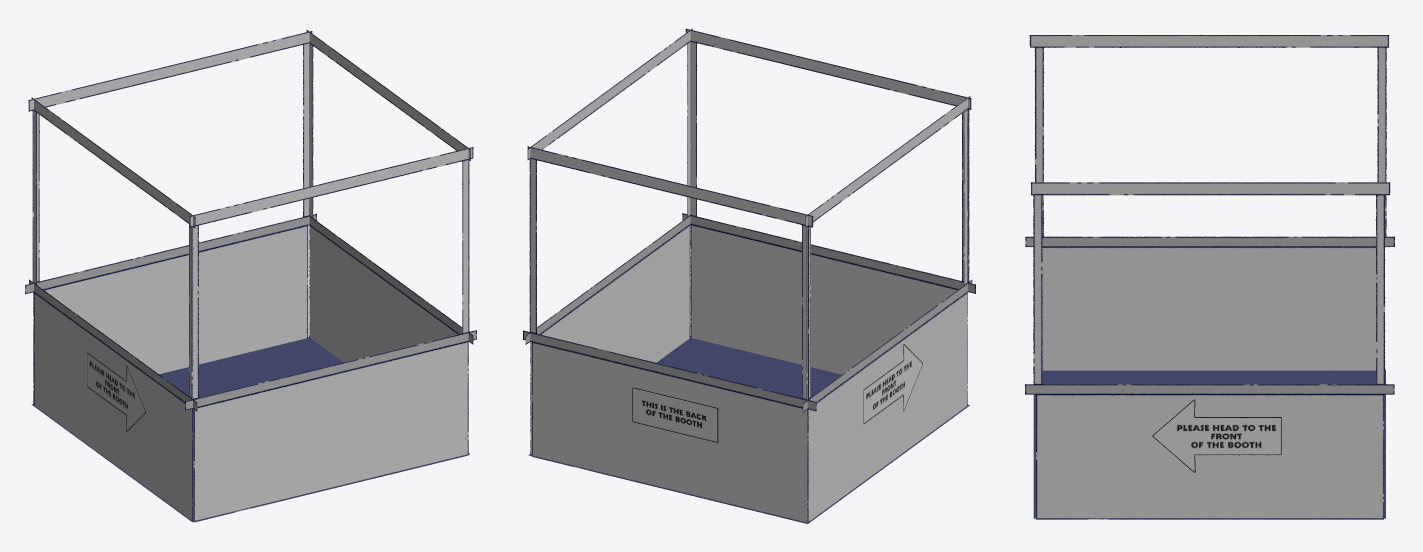
Rendered from BoothUnique.fbx.
The picture shows the model from 3 angles, left to right: view 1: azimuth 30°, elevation 25°; view 2: azimuth 150°, elevation 25°; view 3: azimuth 270°, elevation 25°; orthographic projection. The views are drawn at different scales.
Parts seen in each view (by area): view 1: Booth; view 2: Booth; view 3: Booth.
Part boxes in pixels (box(x1,y1,x2,y2)): Booth: box(25, 30, 476, 522); Booth: box(523, 28, 975, 523); Booth: box(1024, 34, 1394, 519).
Bounding box in the file's own units: 1.01 × 1.02 × 1.
